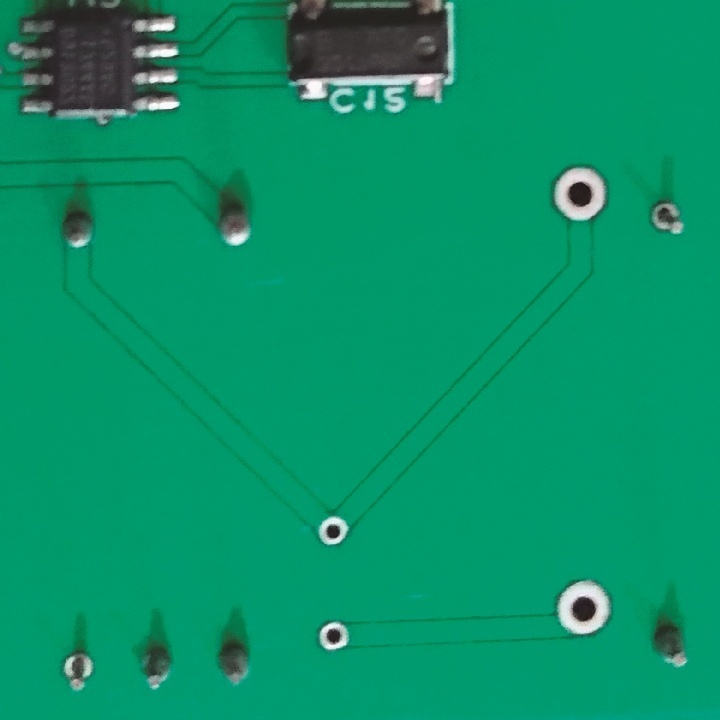F: (547, 162, 612, 226), (550, 576, 613, 641), (647, 195, 688, 240), (59, 647, 99, 693), (315, 617, 353, 660), (313, 512, 351, 549)
